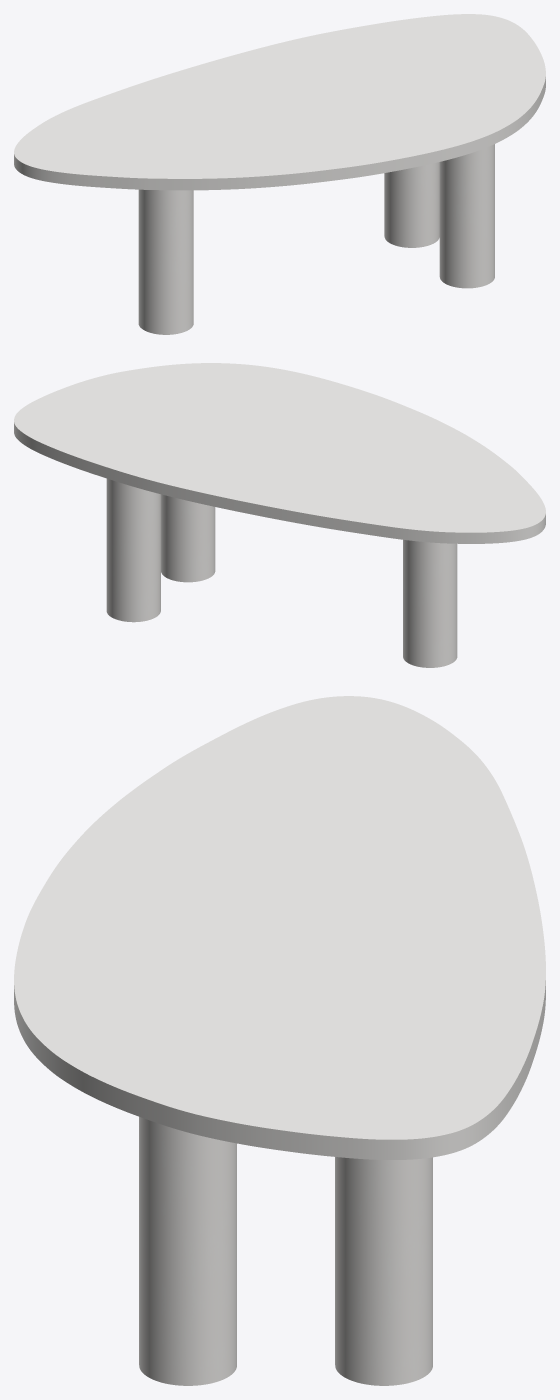
File: purewhite_pebbletop_standard_cylinder.glb
3 renders of one model, top to bottom at view 1: azimuth 30°, elevation 25°; view 2: azimuth 150°, elevation 25°; view 3: azimuth 270°, elevation 25°, orthographic. The views are drawn at different scales.
Parts seen in each view (by area): view 1: standard_pebbletop, cylinder; view 2: standard_pebbletop, cylinder; view 3: standard_pebbletop, cylinder.
Part boxes in pixels (<box>): standard_pebbletop: <box>14,14,545,190</box>; cylinder: <box>138,144,494,334</box>; standard_pebbletop: <box>14,363,545,543</box>; cylinder: <box>106,478,457,667</box>; standard_pebbletop: <box>14,696,545,1159</box>; cylinder: <box>139,1116,432,1385</box>.
Bounding box in the file's own units: 7.5 × 2.53 × 3.8.
Materials: 1 (1 with a texture image).
